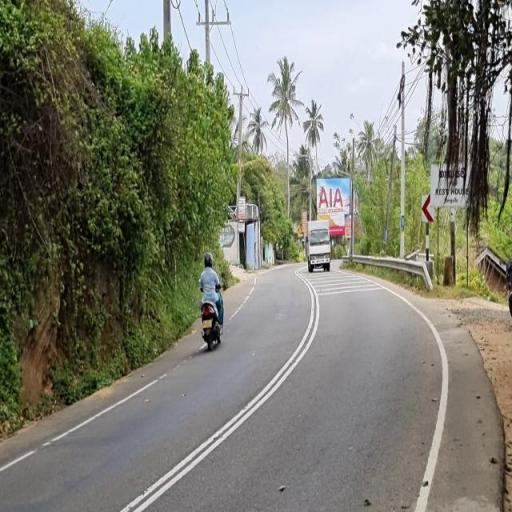double_white_line: (116, 272, 322, 510)
